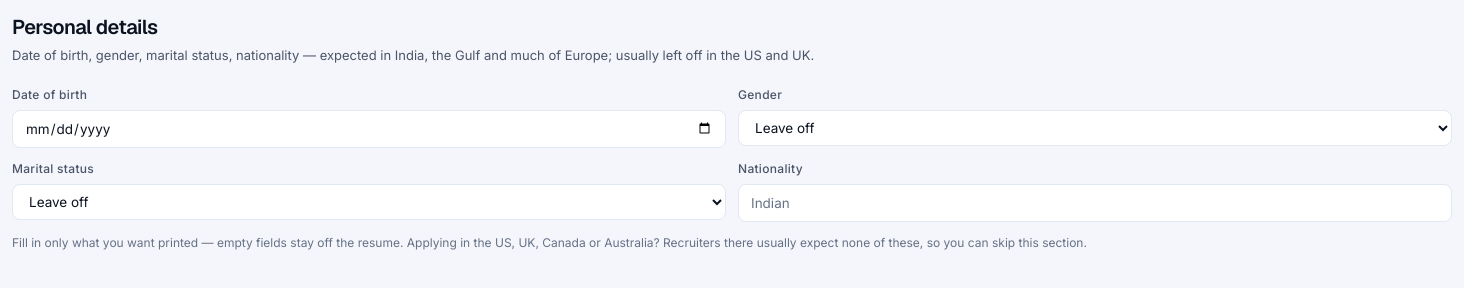
Test: PersonalDetailsForm › flags a future birth date once the field is left
In the date field labelled "Date of birth": (369, 129) [12,110,726,148], type "2999-01-01"
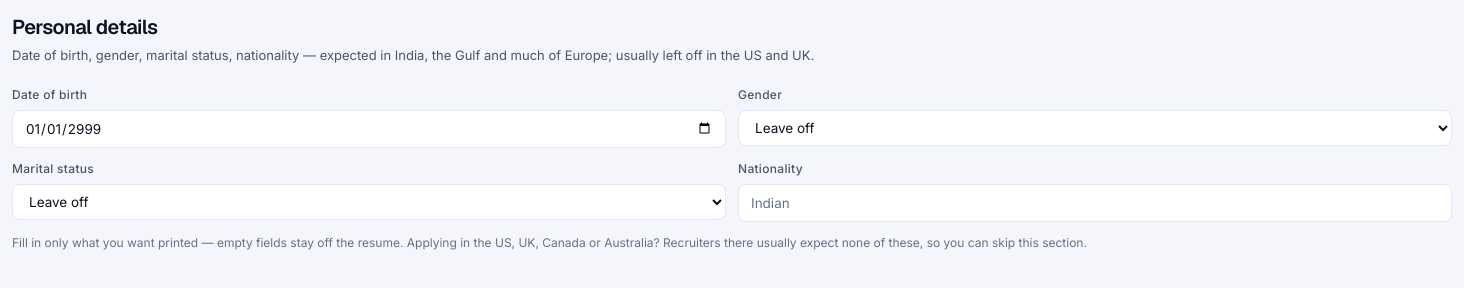
Leave the date field labelled "Date of birth", box [12,110,726,148]
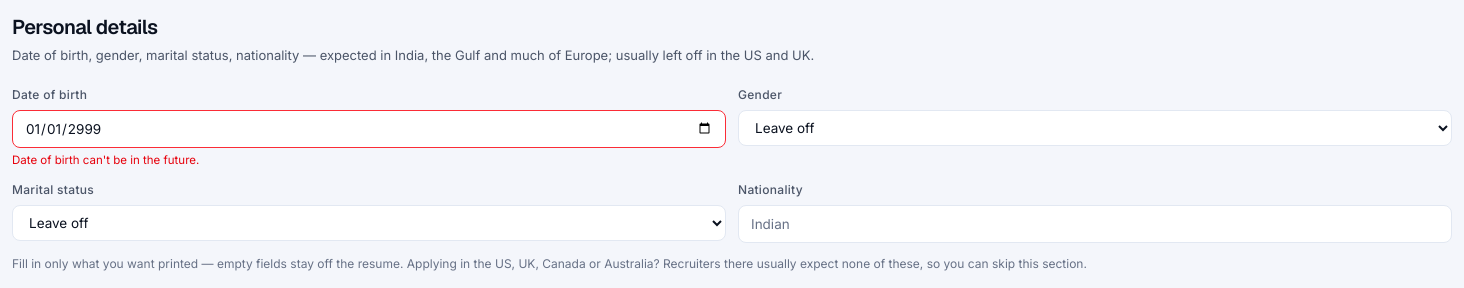
expect the text "Date of birth can't be in the future." is shown: met, box [12,153,199,167]
